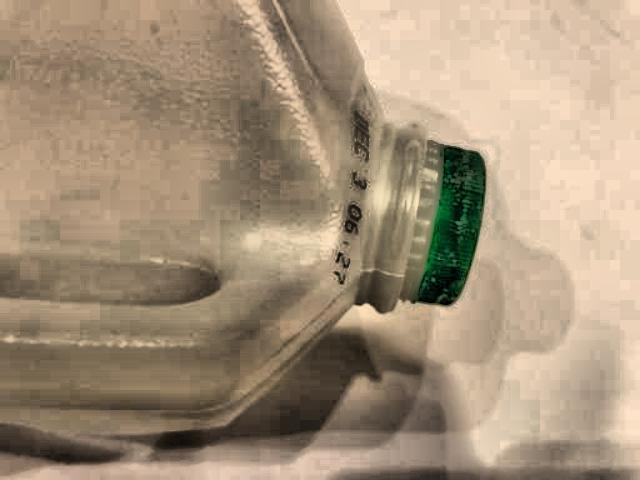Plastic: (6, 9, 626, 478)
